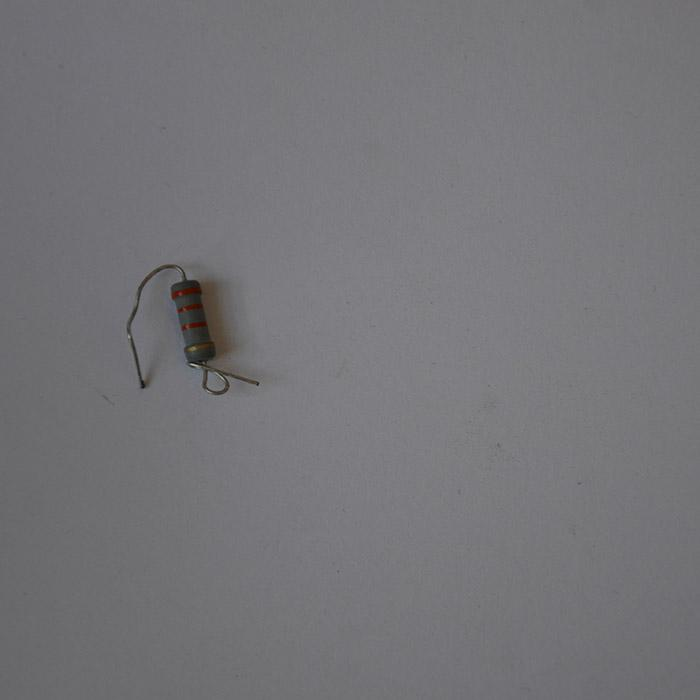resistor: (170, 278, 216, 363)
